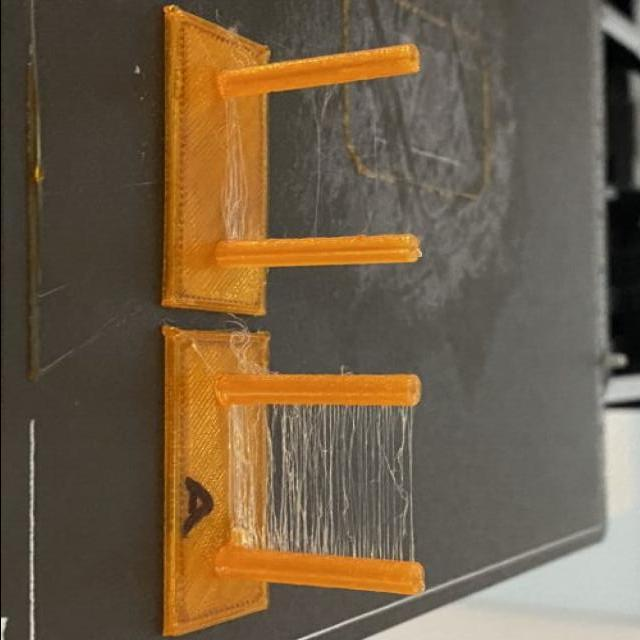stringing: (262, 398, 415, 559)
